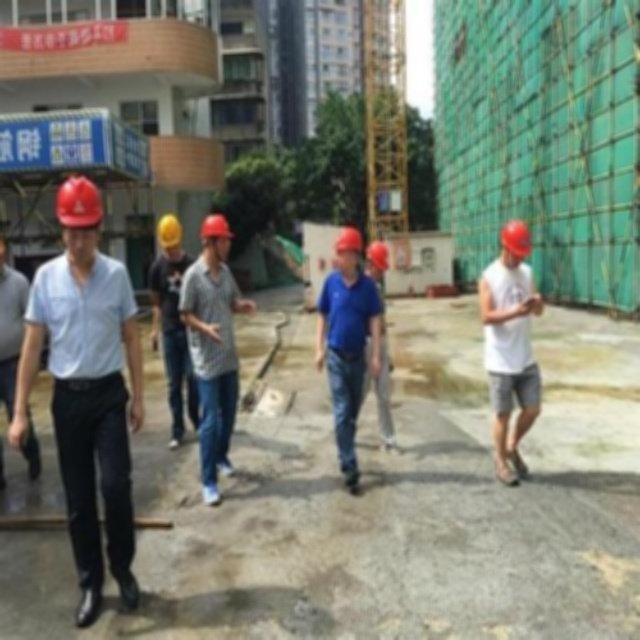Sin_Chaleco: (23, 256, 138, 391)
